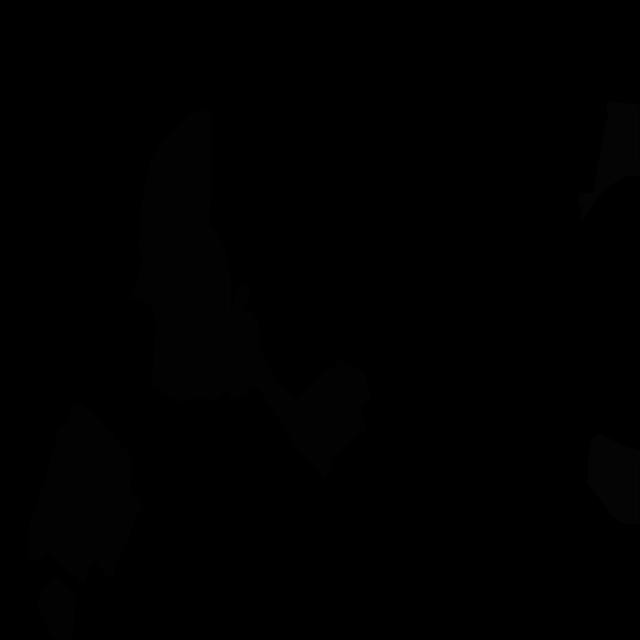cardboard: (199, 281, 372, 481), (130, 110, 231, 401), (26, 403, 144, 583), (37, 576, 76, 640)
soft_plastic: (578, 101, 640, 223), (584, 433, 640, 525)
